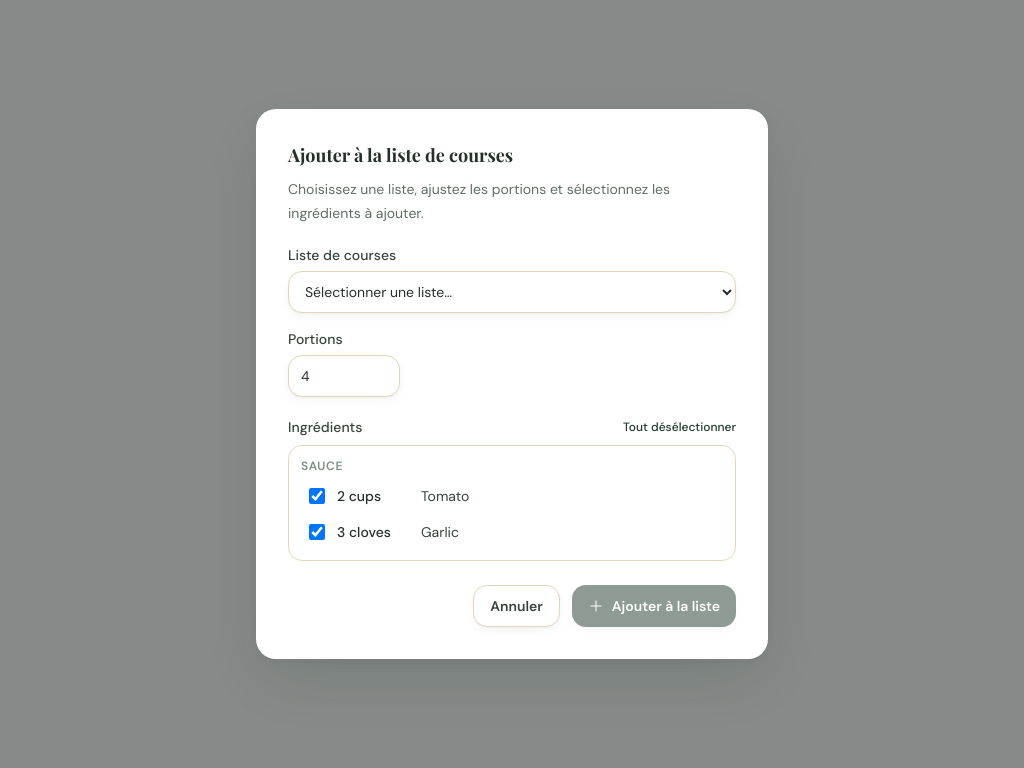
Scenario: AddToShoppingListModal › submits the selected list, ingredients, and servings on success
Select "Weekly Groceries" in the dropdown labelled "Liste de courses" at (512, 292), box [288,271,736,313]
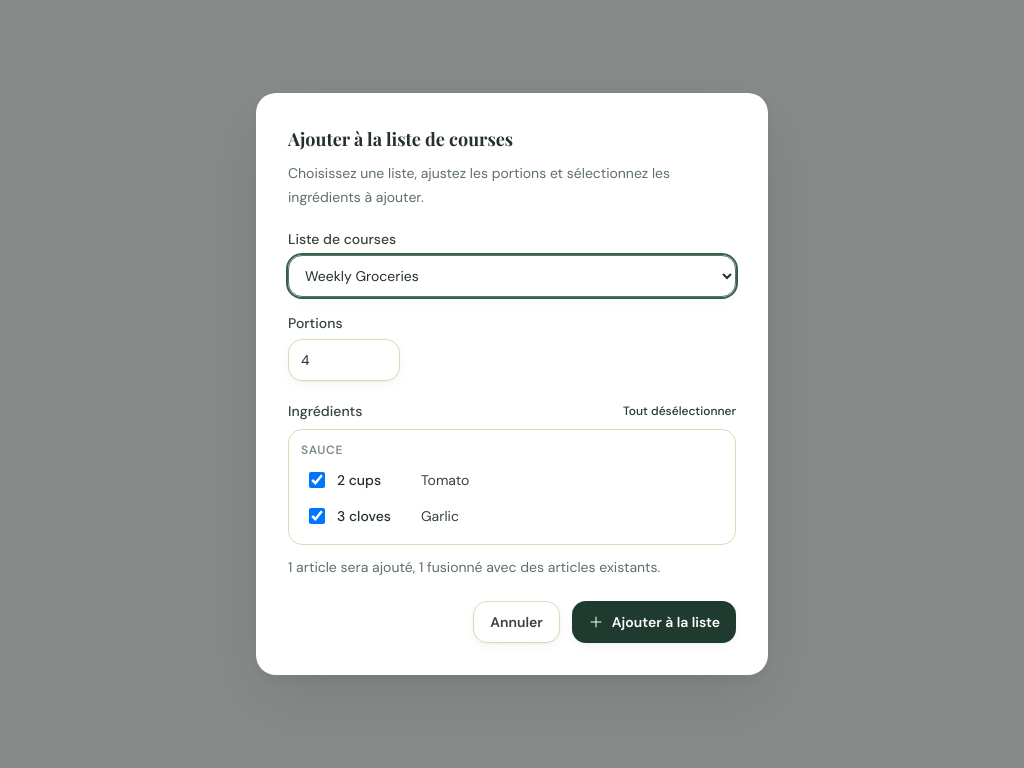
Replace the text in the number field labelled "Portions" with "8" at (344, 360), box [288,339,400,381]
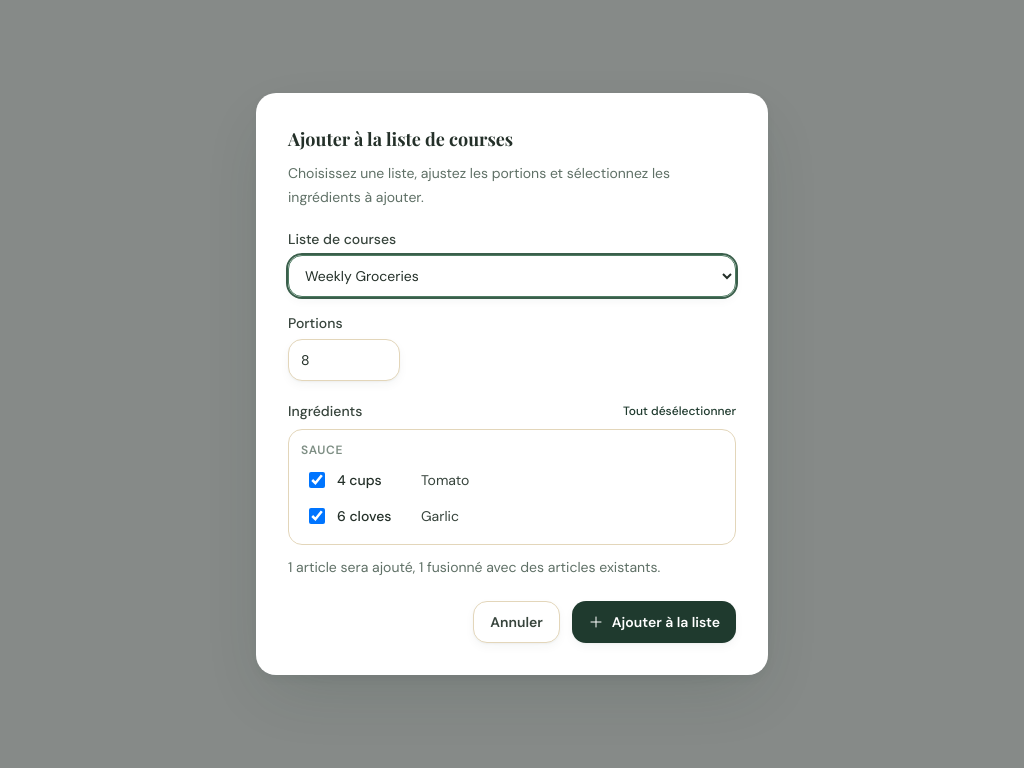
Click the button "Ajouter à la liste" at (654, 622), box [572,601,736,643]
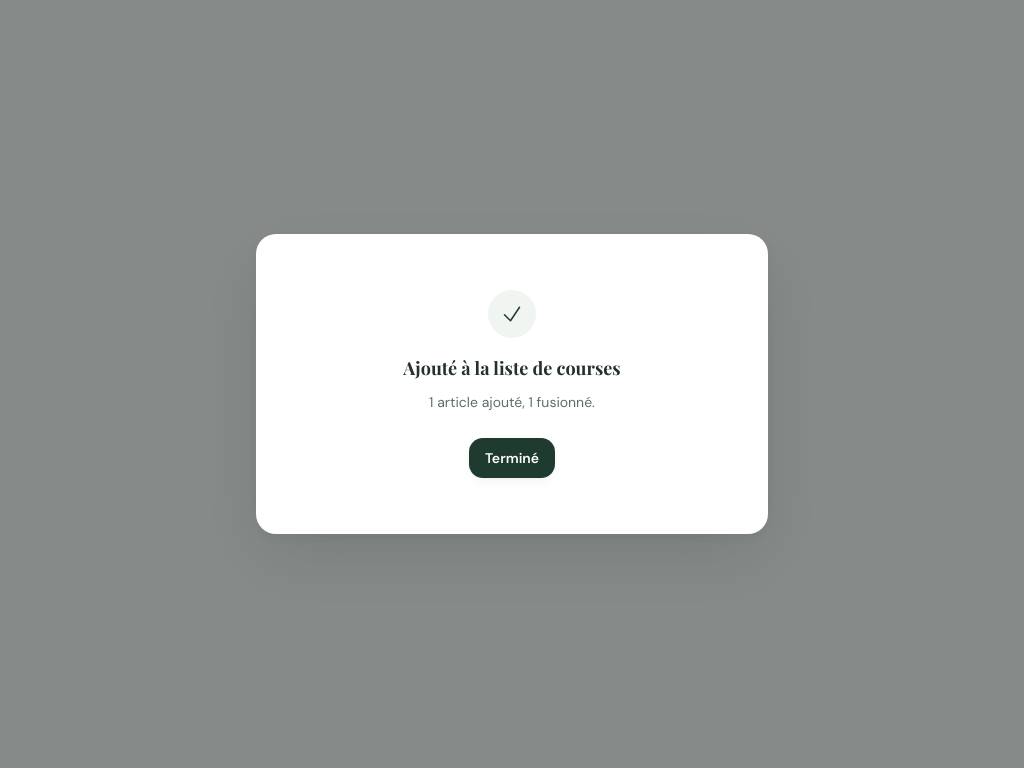
Expected: the heading "Ajouté à la liste de courses" is shown, [403,354,621,382]
